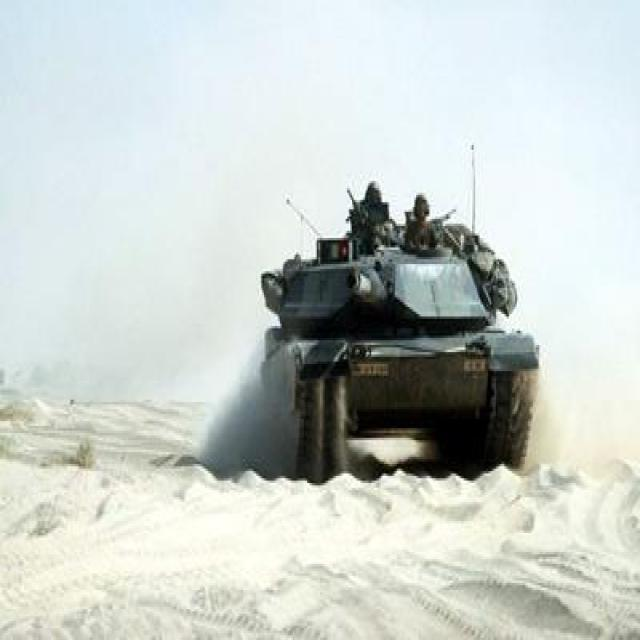MIL_MBT: (257, 163, 542, 489)
